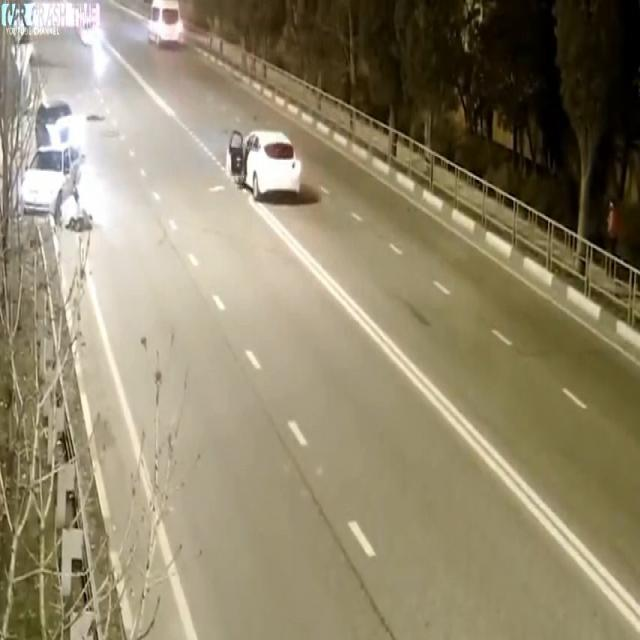Accident: (14, 81, 102, 239)
